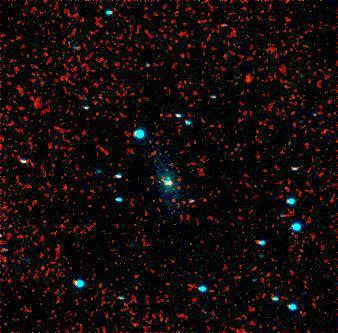star: (231, 63, 261, 93)
